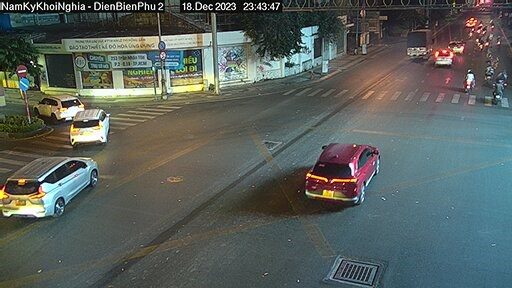car: (17, 141, 97, 231), (308, 127, 382, 211), (25, 88, 88, 126), (61, 103, 112, 146), (434, 44, 459, 68)
motorbike: (459, 69, 477, 92)
truck: (404, 25, 425, 58)
